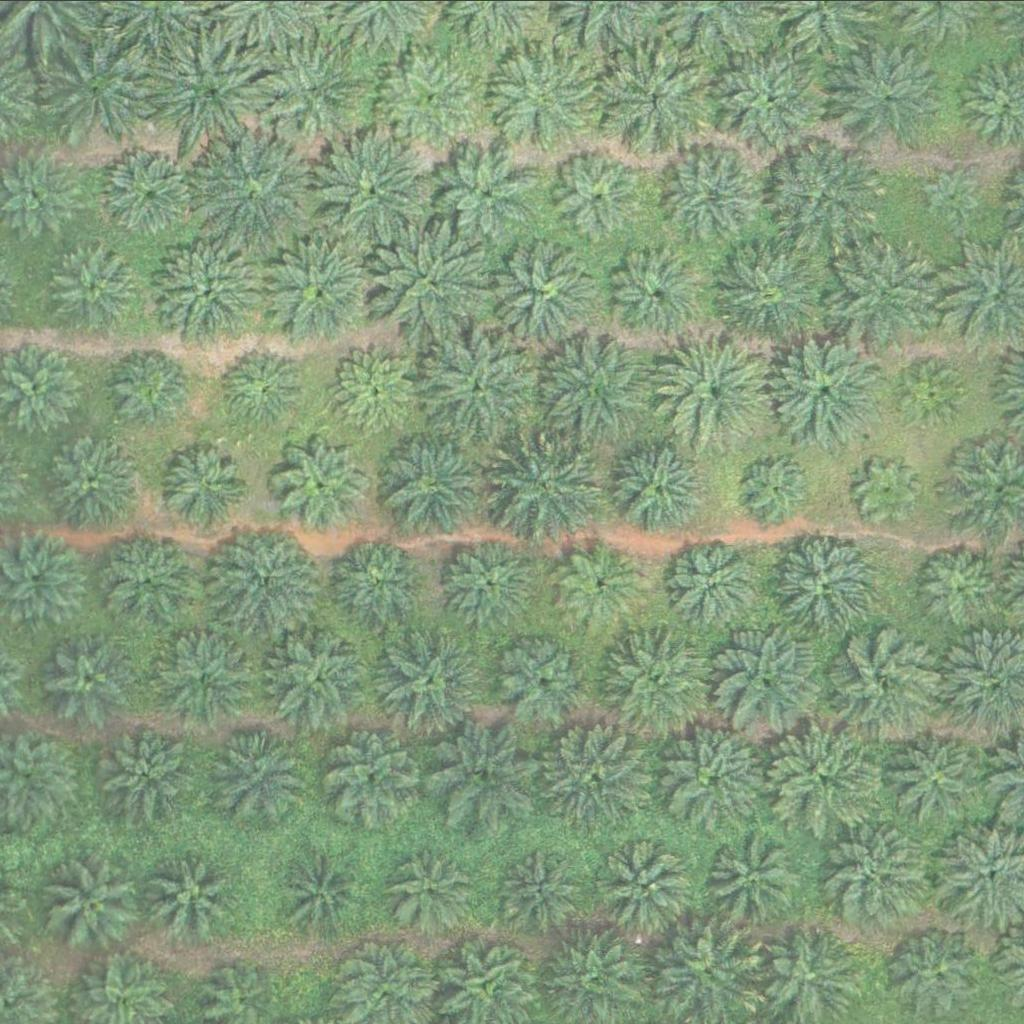Kelapa_Sawit: (262, 621, 376, 734), (208, 521, 322, 634), (378, 424, 492, 537), (491, 432, 605, 545), (837, 38, 951, 151), (543, 715, 656, 828), (662, 720, 775, 833), (600, 426, 713, 539), (662, 334, 775, 447), (151, 235, 264, 348), (267, 234, 380, 347), (200, 131, 313, 244), (318, 133, 431, 246), (490, 37, 603, 150), (599, 45, 712, 158), (718, 40, 831, 153), (773, 332, 886, 445), (828, 627, 941, 740), (766, 722, 879, 835), (886, 720, 999, 833), (423, 327, 537, 439), (535, 330, 649, 442), (603, 233, 717, 345), (772, 139, 886, 251), (715, 236, 829, 348), (43, 30, 156, 142), (422, 716, 535, 828), (369, 623, 482, 735), (600, 626, 713, 738), (373, 226, 486, 338), (486, 232, 599, 344), (158, 35, 271, 147), (260, 33, 373, 145), (828, 233, 941, 345), (772, 524, 885, 636), (713, 624, 826, 736), (820, 814, 933, 926), (40, 430, 141, 530), (277, 842, 378, 942), (595, 835, 696, 935), (318, 726, 419, 826), (489, 629, 590, 729), (435, 145, 536, 245), (381, 49, 482, 149), (704, 829, 805, 929), (97, 723, 197, 823), (44, 848, 144, 948), (205, 718, 305, 818), (153, 626, 253, 726), (327, 532, 427, 632), (441, 532, 541, 632), (273, 435, 373, 535), (664, 142, 764, 242), (108, 146, 196, 234), (673, 539, 761, 627), (164, 440, 252, 528), (218, 342, 306, 430), (332, 345, 420, 433), (913, 542, 1001, 630), (50, 243, 139, 330), (498, 845, 587, 932), (48, 635, 136, 722), (103, 535, 191, 622), (385, 842, 473, 929), (557, 540, 645, 627), (106, 345, 194, 432), (554, 149, 642, 236), (158, 853, 234, 928), (900, 361, 963, 424), (746, 453, 809, 516), (857, 458, 920, 521), (920, 165, 983, 227)
